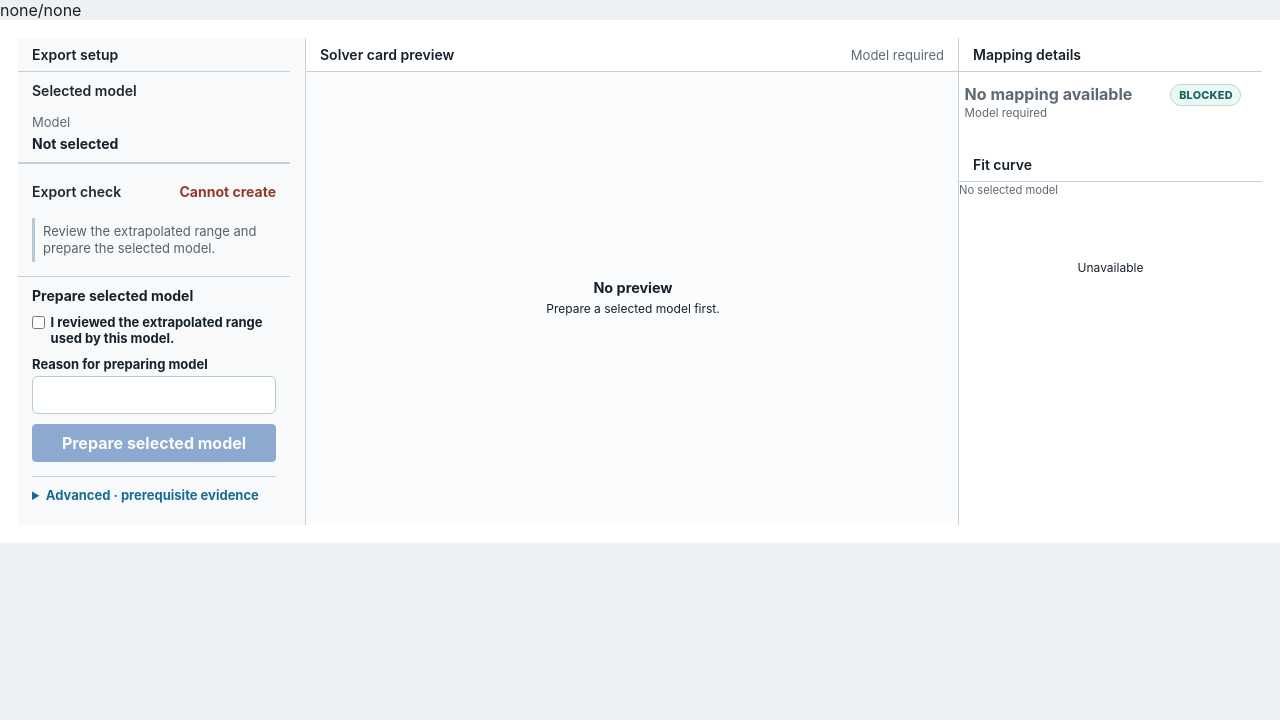
Test case: metal Export recovery › pins a successful model and retries only Neutral promotion after a partial failure
The image size is (1280, 720).
Click the checkbox labelled "I reviewed the extrapolated range used by this model.".
click(38, 323)  # box [32,316,45,329]
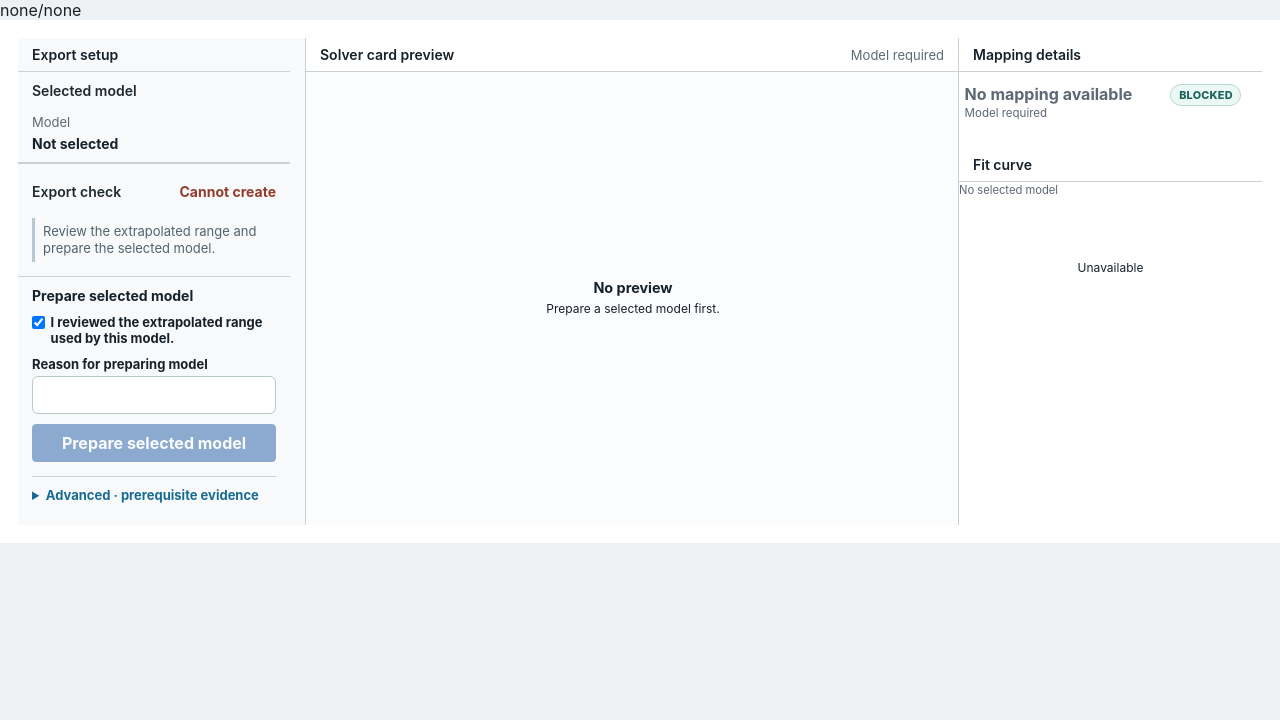
Type "Create a solver card from this model." into the field labelled "Reason for preparing model".
click(154, 395); type("Create a solver card from this model.")  # box [32,376,276,414]
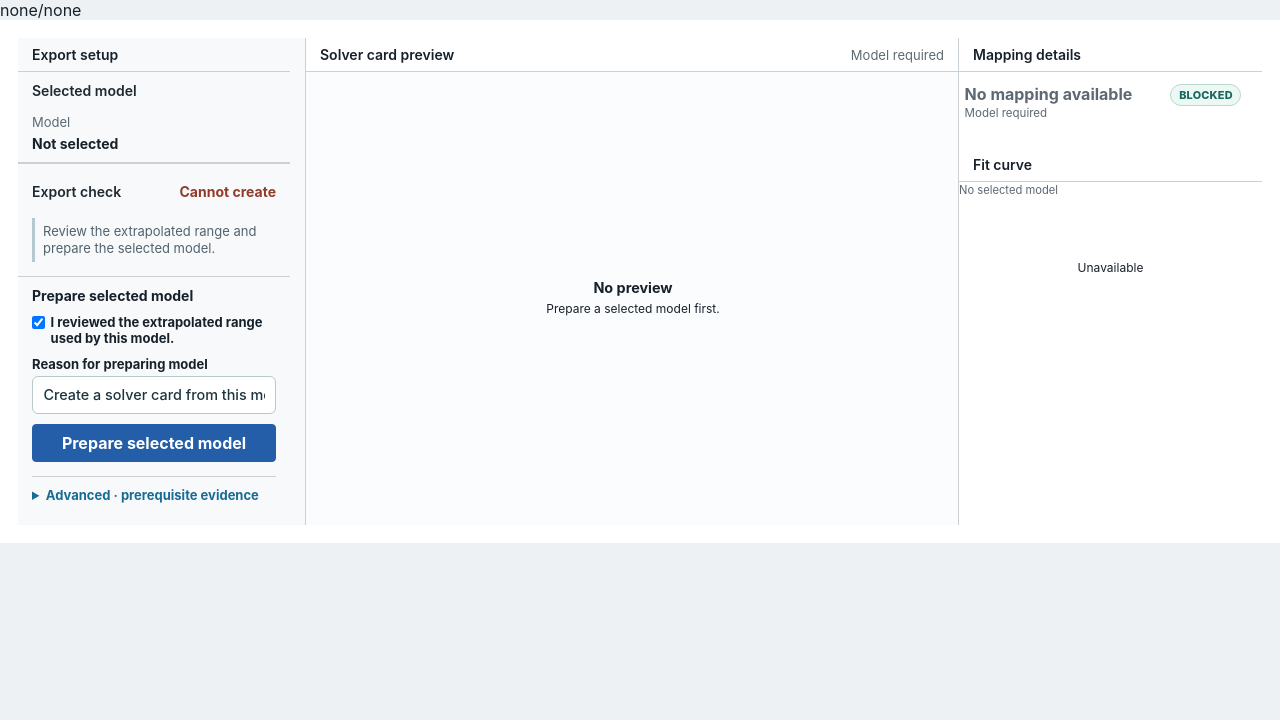
Click the button "Prepare selected model".
click(154, 443)  # box [32,424,276,462]
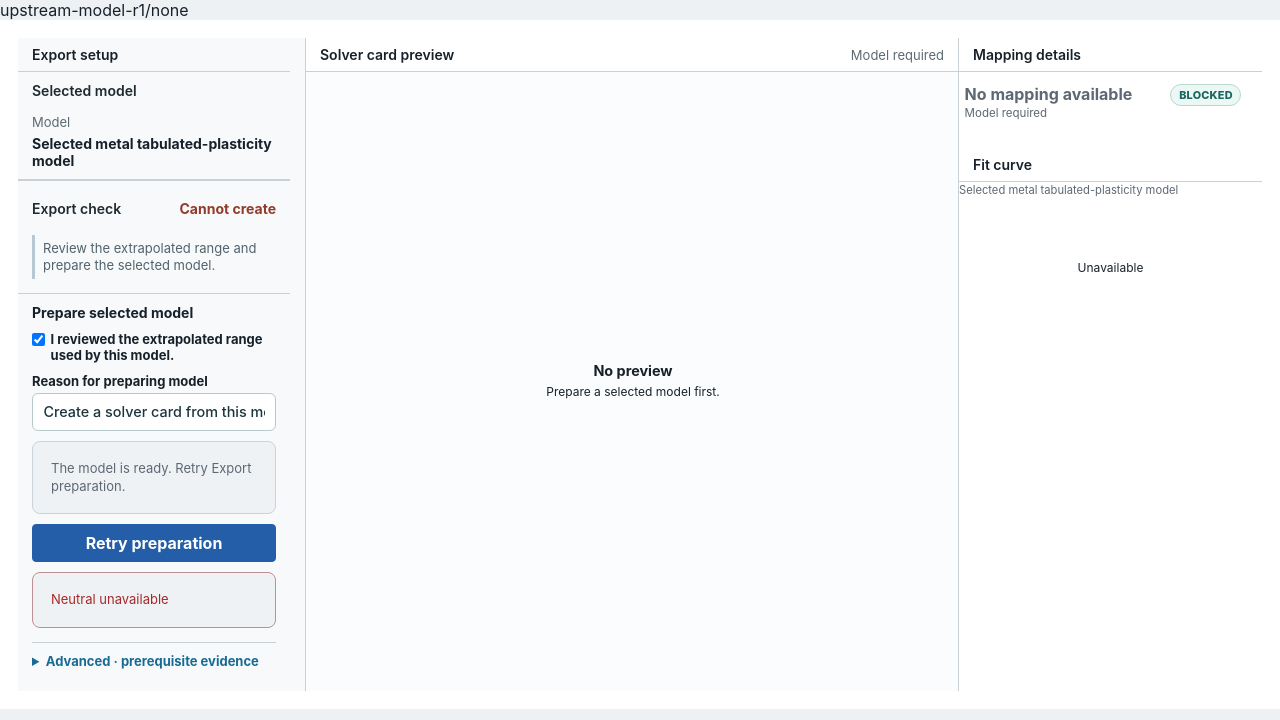
Check: the message "Neutral unavailable" is shown, box [32,572,276,628]
Check: the text named "Current session pins" reads "upstream-model-r1/none", box [0,0,189,20]
Click the button "Retry preparation".
click(154, 543)  # box [32,524,276,562]
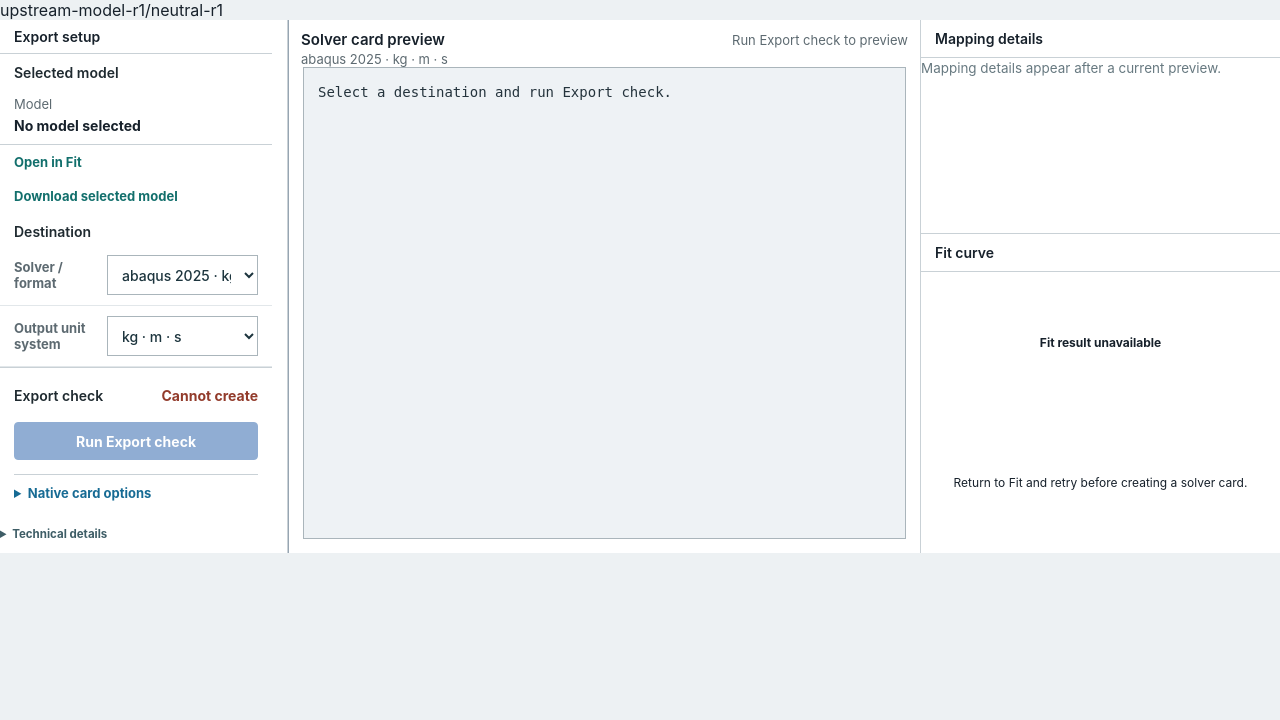
Check: the text named "Current session pins" reads "upstream-model-r1/neutral-r1", box [0,0,223,20]
